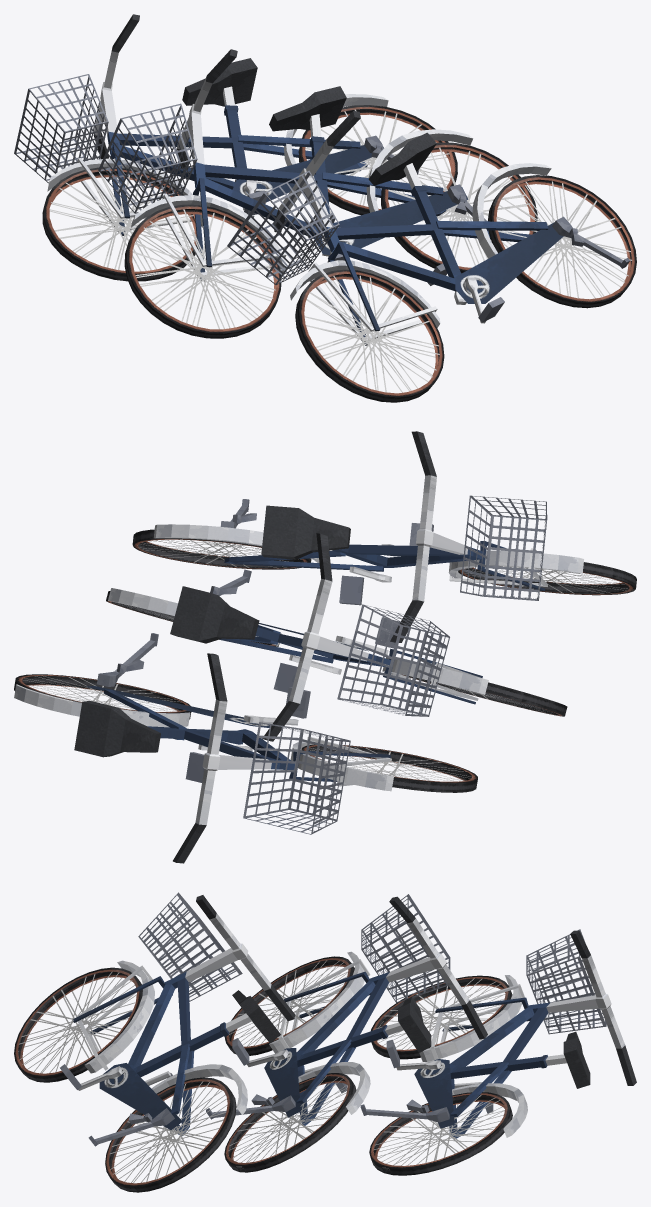
Rendered from ztn.obj.
3 views of the same model, one above another, from view 1: azimuth 30°, elevation 25°; view 2: azimuth 150°, elevation 25°; view 3: azimuth 270°, elevation 25° (orthographic). The views are drawn at different scales.
Parts seen in each view (by area): view 1: Cube.012, Cube.001_Cube.002, Circle.007, Circle, Cube.019, Circle.005, Circle.011, Cube.010, Cube.003_Cube.004, Cube.017, Circle.002, Circle.009 (+17 smaller); view 2: Cube.019, Cube.012, Cube.017, Cube.003_Cube.004, Cube.001_Cube.002, Cube.010, Cube.016, Cube.004_Cube.005, Cube.009, Circle.011, Circle.005, Circle.007 (+15 smaller); view 3: Cube.012, Cube.019, Cube.001_Cube.002, Circle.005, Circle.007, Circle.009, Circle.002, Cube.017, Cube.003_Cube.004, Cube.010, Circle.011, Circle (+21 smaller).
Boxes of the visible parts, x1,y1,x2,y2 form: Cube.012: (274,111,563,345); Cube.001_Cube.002: (177,49,468,281); Circle.007: (295,269,444,402); Circle: (124,204,281,338); Cube.019: (93,14,383,235); Circle.005: (488,175,636,308); Circle.011: (42,167,201,281); Cube.010: (227,170,339,284); Cube.003_Cube.004: (98,103,197,213); Cube.017: (14,74,108,183); Circle.002: (381,142,537,273); Circle.009: (298,105,457,215); Cube.019: (86,653,390,863); Cube.012: (332,431,545,642); Cube.017: (243,722,350,834); Cube.003_Cube.004: (337,604,449,716); Cube.001_Cube.002: (255,533,482,741); Cube.010: (460,495,547,600); Cube.016: (74,701,160,757); Cube.004_Cube.005: (170,586,259,643); Cube.009: (261,505,350,559); Circle.011: (301,744,477,792); Circle.005: (132,529,311,569); Circle.007: (458,562,636,595); Cube.012: (73,895,295,1129); Cube.019: (414,930,636,1128); Cube.001_Cube.002: (264,896,487,1117); Circle.005: (105,1077,236,1192); Circle.007: (14,967,142,1082); Circle.009: (369,1092,512,1175); Circle.002: (224,1073,356,1172); Cube.017: (526,929,606,1034); Cube.003_Cube.004: (361,894,450,1002); Cube.010: (138,892,242,1001); Circle.011: (371,975,512,1059); Circle: (224,956,354,1055).
Size of the model in its own units: 2.04 by 0.9605 by 2.73.
